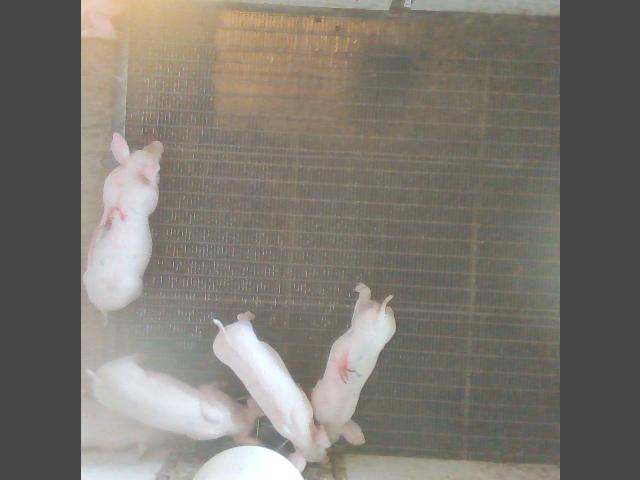pig-3: (83, 133, 161, 324)
pig-4: (311, 282, 394, 444)
